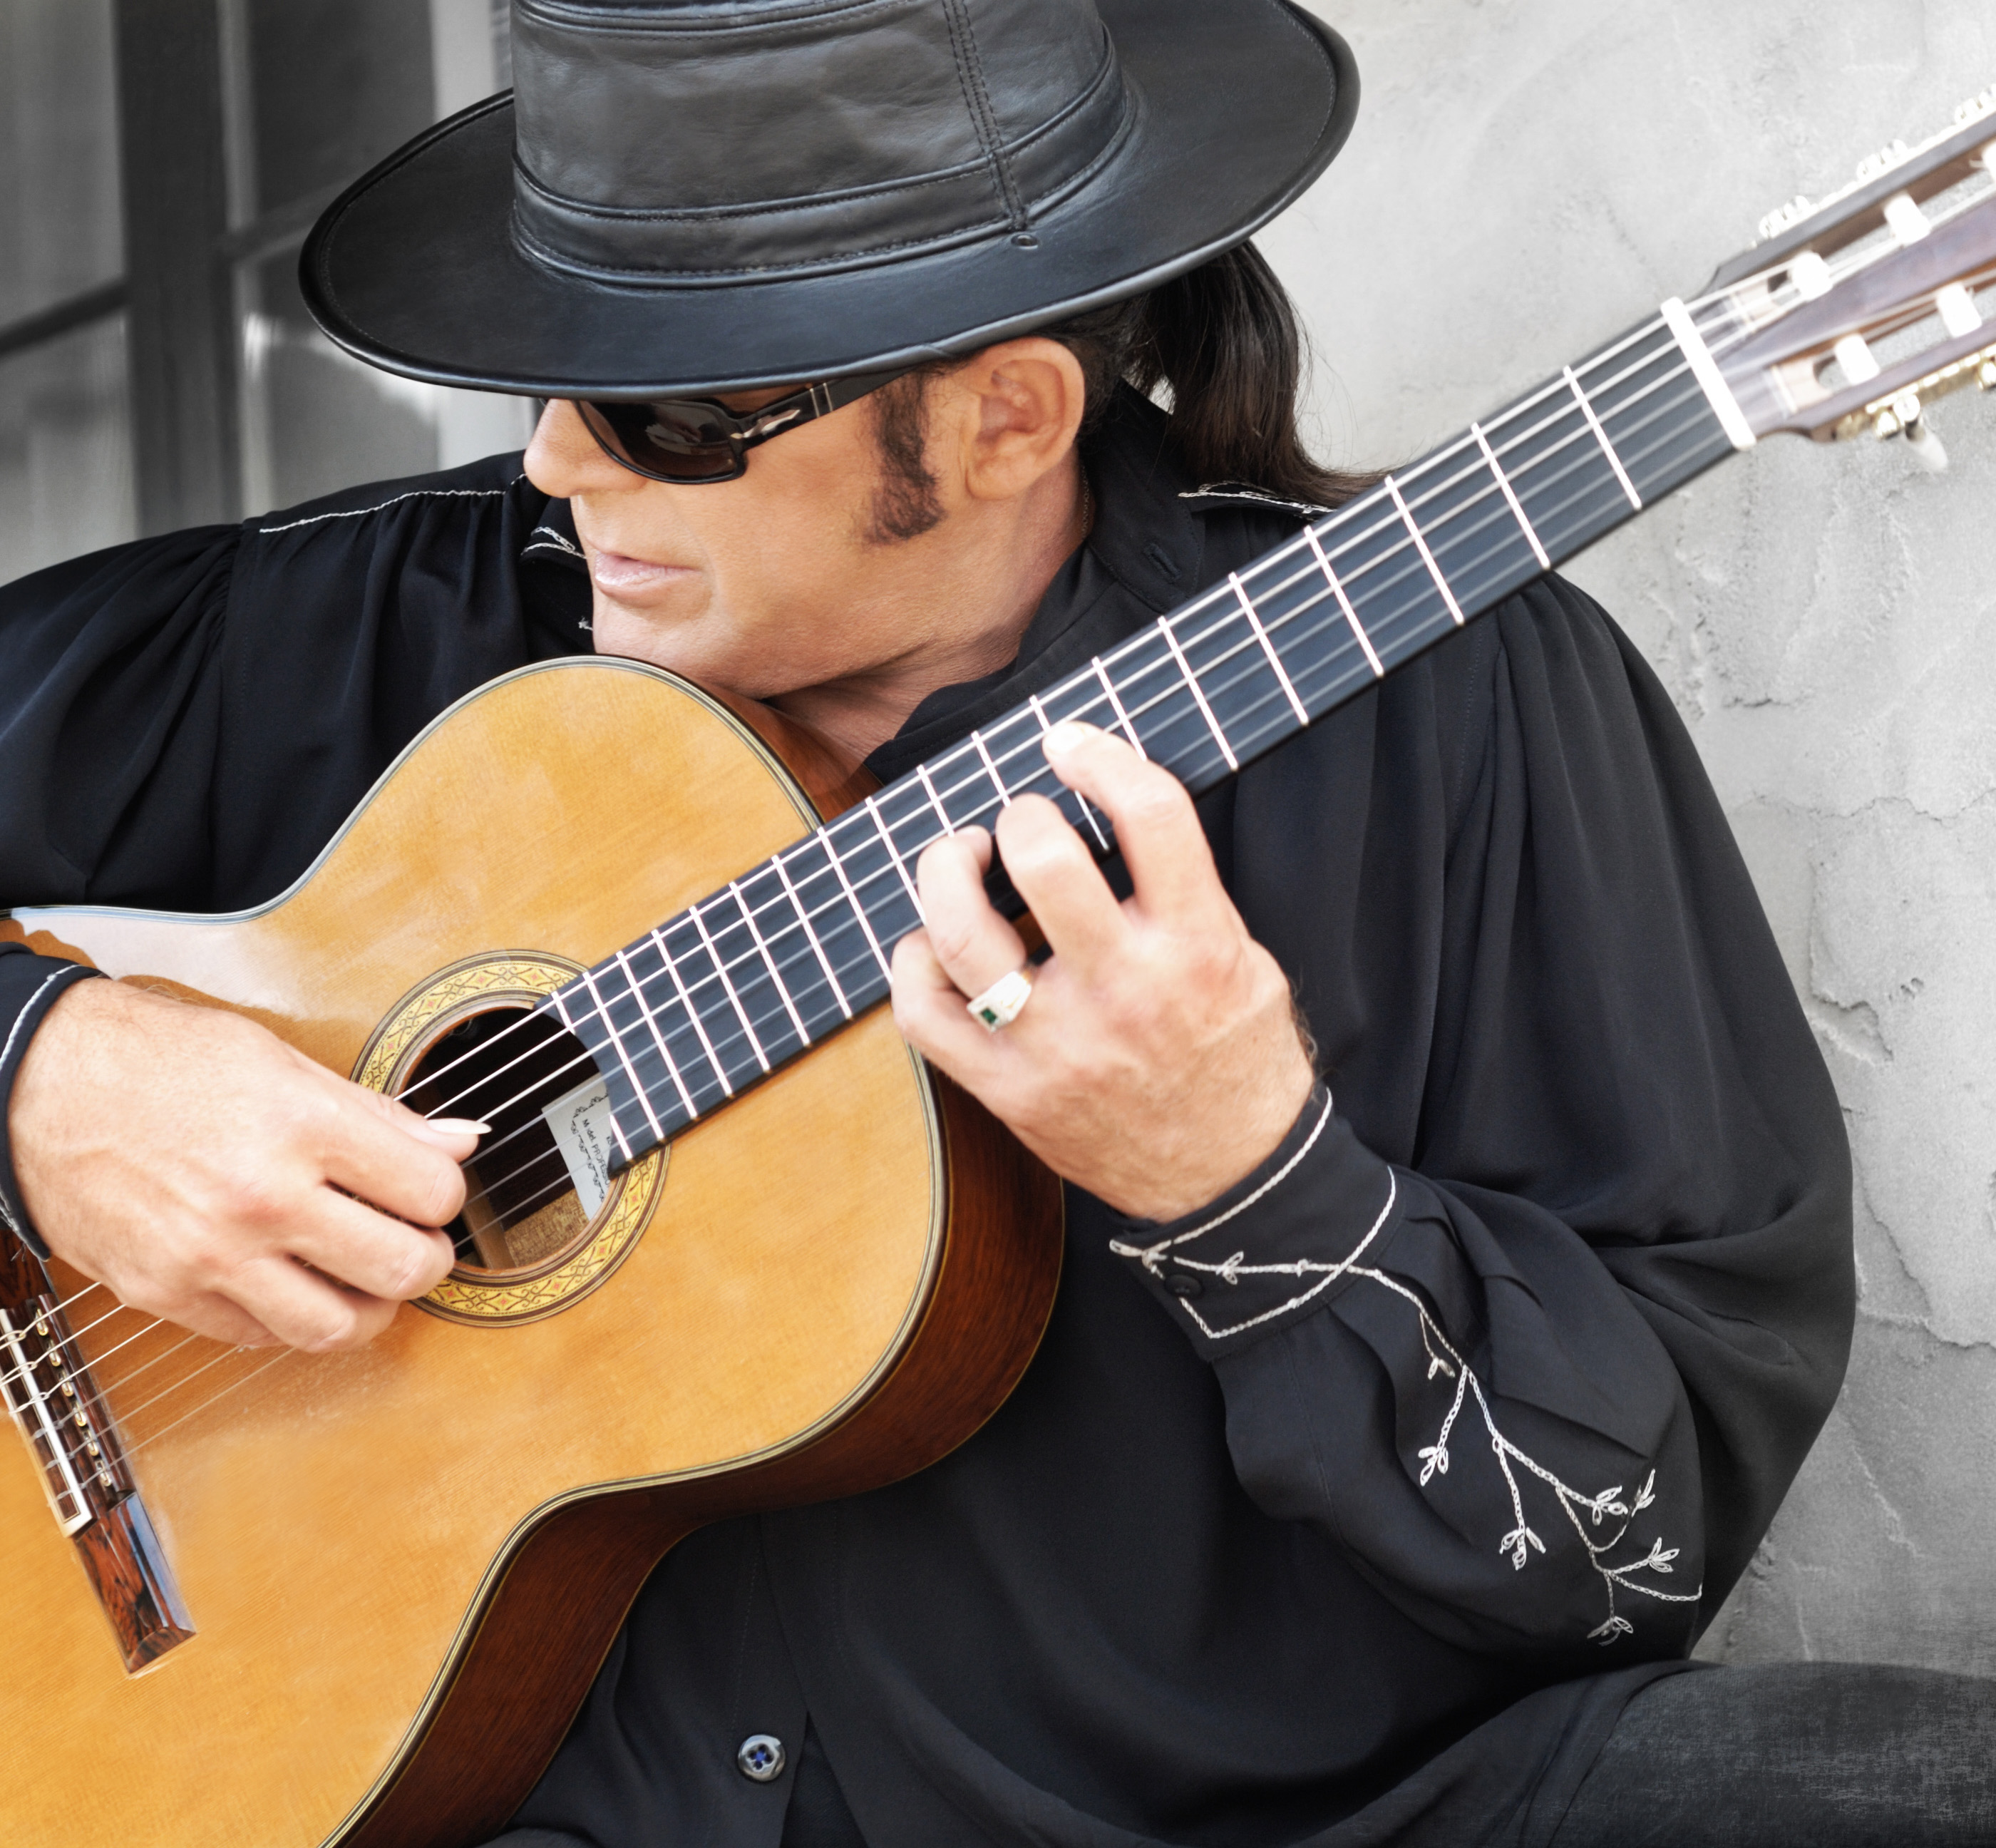0 classic: (0, 56, 1993, 1848)
